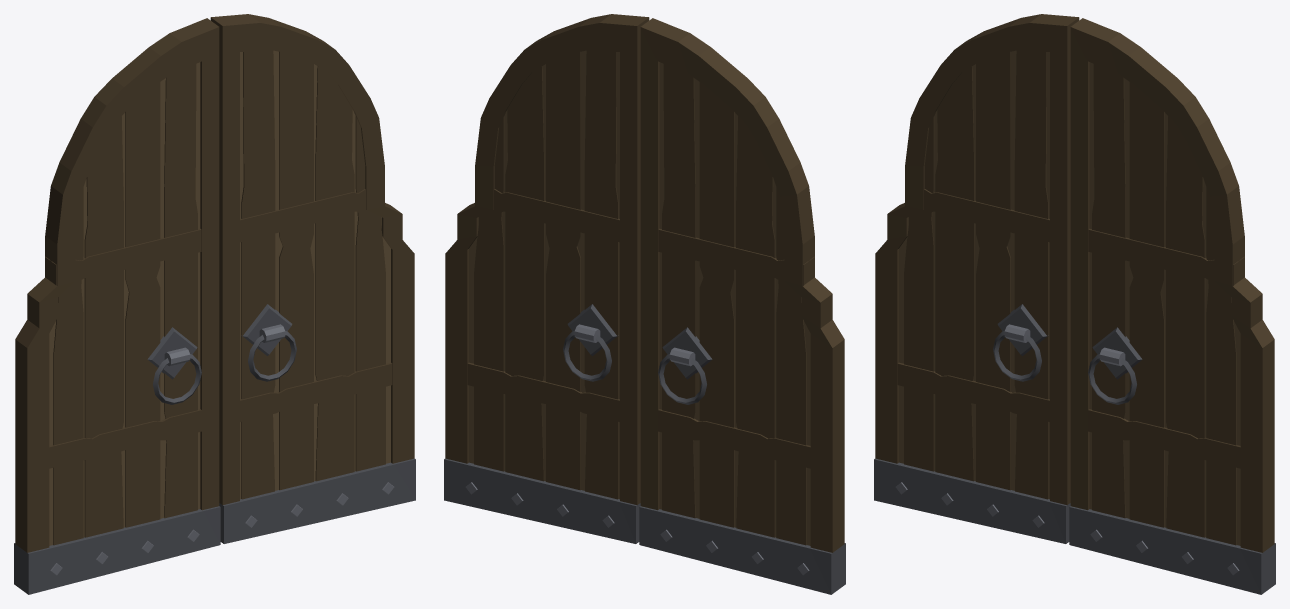
The model's file is Doors_RoundArch.glb.
The picture shows the model from 3 angles, left to right: view 1: azimuth 30°, elevation 25°; view 2: azimuth 150°, elevation 25°; view 3: azimuth 330°, elevation 25°; orthographic projection.
Visible parts, largest first — view 1: Doors_RoundArch_L, Doors_RoundArch_R; view 2: Doors_RoundArch_L, Doors_RoundArch_R; view 3: Doors_RoundArch_R, Doors_RoundArch_L.
Boxes of the visible parts, left/top/right/bottom form: Doors_RoundArch_L: left=14, top=18, right=220, bottom=594; Doors_RoundArch_R: left=210, top=14, right=415, bottom=543; Doors_RoundArch_L: left=639, top=18, right=845, bottom=594; Doors_RoundArch_R: left=444, top=14, right=649, bottom=543; Doors_RoundArch_R: left=1069, top=18, right=1275, bottom=594; Doors_RoundArch_L: left=874, top=14, right=1079, bottom=543.
Size of the model in its own units: 231 by 297 by 27.43.
